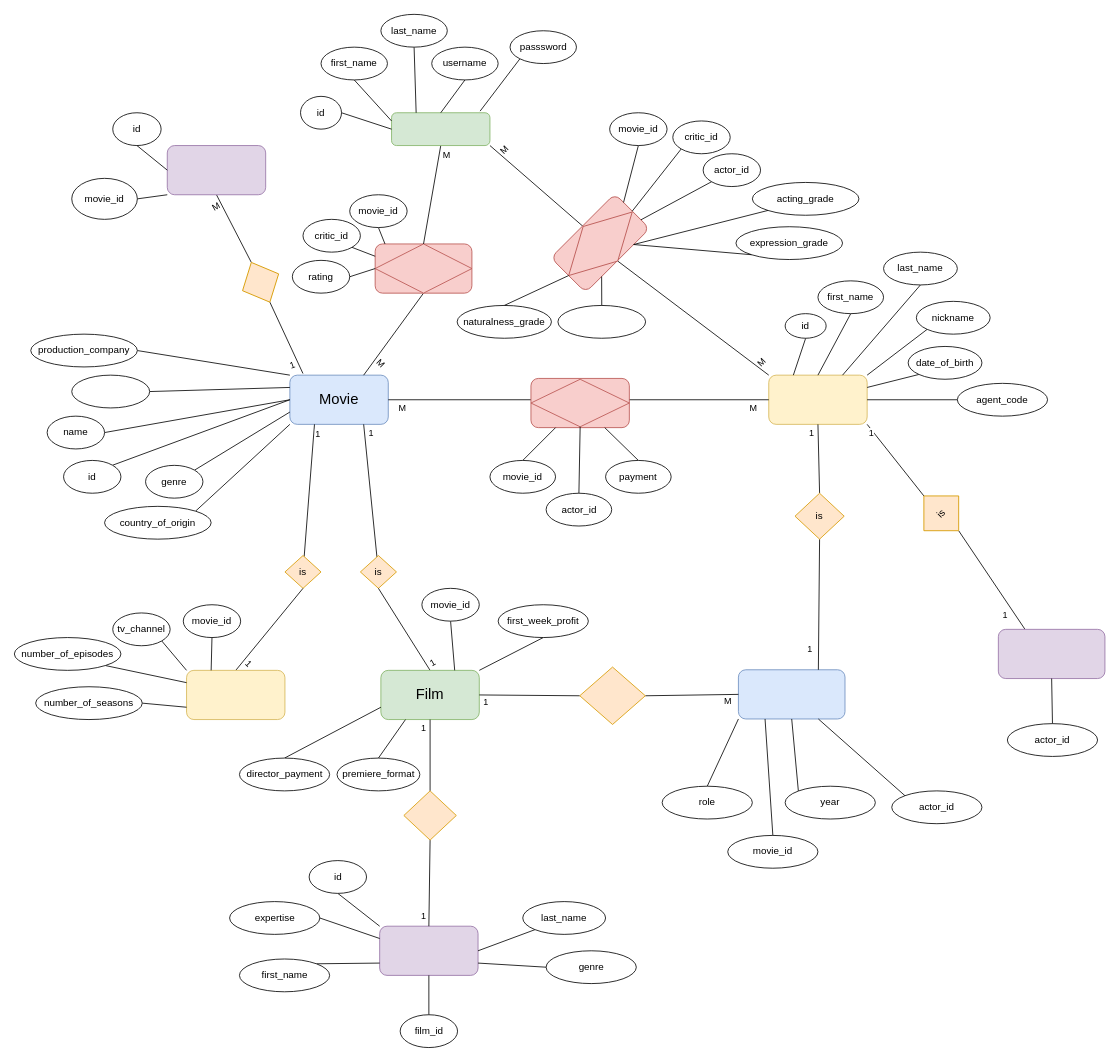
This 1119x1062 diagram has some shape labels left out. The shapes that lost their labels are listed below. From the top down, each one's centre as x and y in pixels, then its label:
At [440,129]: "Critic".
At [216,170]: "Sequel".
At [600,243]: "actor_critique".
At [260,282]: "has".
At [423,268]: "movie_critic".
At [601,321]: "devotion_grade".
At [110,391]: "premiere_city".
At [579,402]: "movie_actor".
At [817,399]: "Actor".
At [1051,654]: "Regular_Actor".
At [235,695]: "TV_Series".
At [612,695]: "play".
At [791,694]: "Oscar_Winner".
At [429,815]: "directed".
At [428,950]: "Director".
